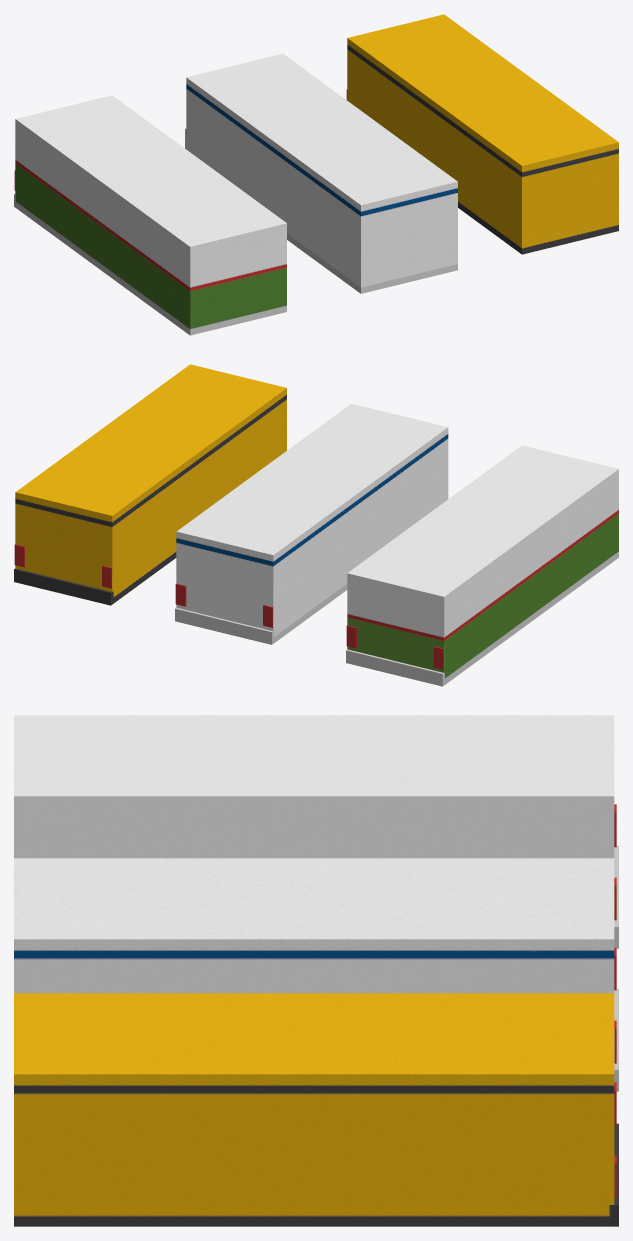
Rendered from Vehicles_02.fbx.
3 renders of one model, top to bottom at view 1: azimuth 30°, elevation 25°; view 2: azimuth 150°, elevation 25°; view 3: azimuth 270°, elevation 25°, orthographic. The views are drawn at different scales.
Visible parts, largest first — view 1: Truck_01, Truck_02, Truck_03; view 2: Truck_01, Truck_02, Truck_03; view 3: Truck_03, Truck_01, Truck_02.
Boxes of the visible parts, <box> form: Truck_01: <box>14,95,286,335</box>; Truck_02: <box>185,53,457,293</box>; Truck_03: <box>346,14,618,254</box>; Truck_01: <box>346,445,618,686</box>; Truck_02: <box>175,403,448,644</box>; Truck_03: <box>14,364,286,605</box>; Truck_03: <box>14,993,618,1226</box>; Truck_01: <box>14,715,618,948</box>; Truck_02: <box>14,858,618,1091</box>.
Size of the model in its own units: 354 by 70 by 252.
